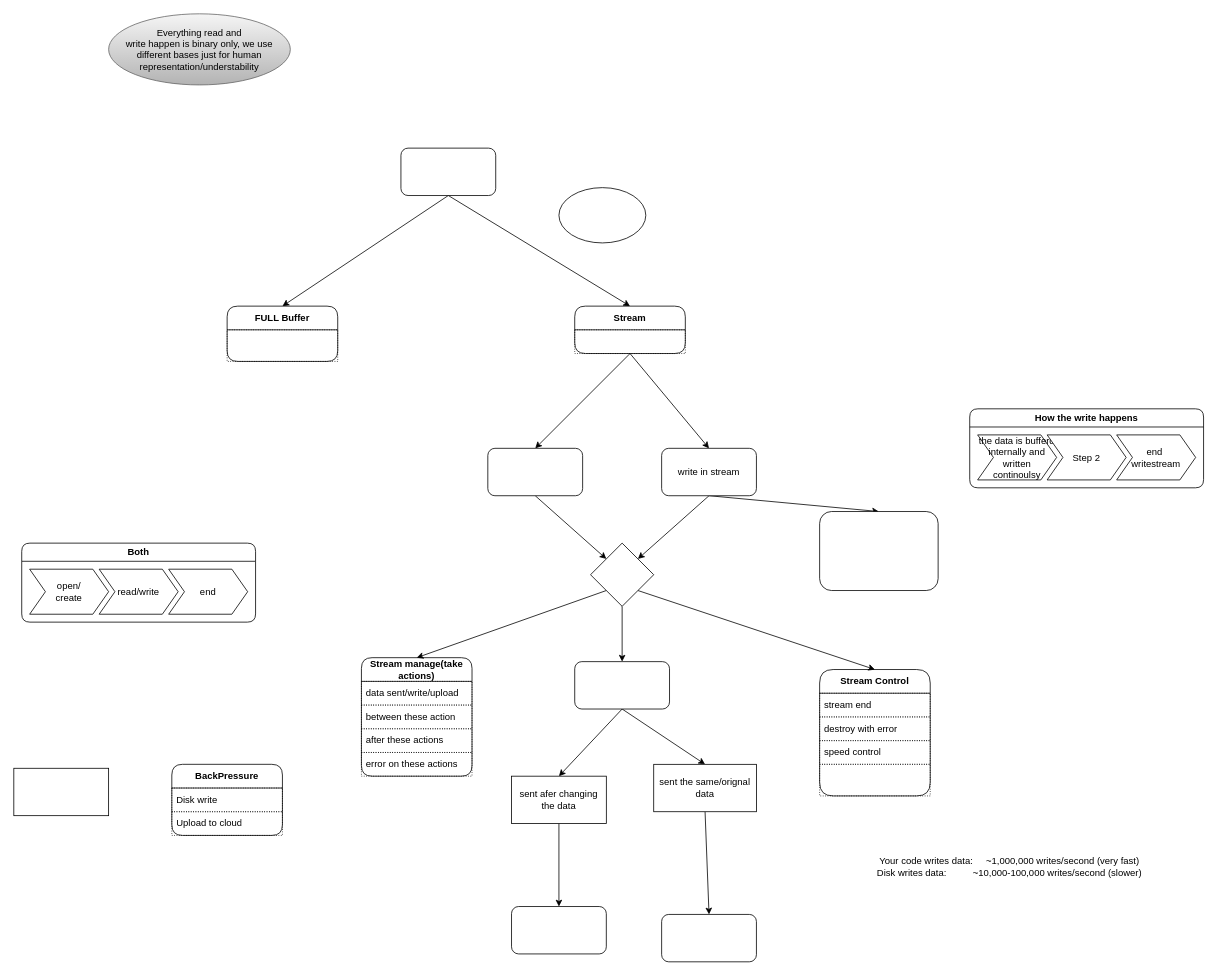
This 1217x976 diagram has some shape labels left out. Here are the shapes that lost their labels. From the top down, the centre of each, then its label:
At (x=448, y=171): "Buffer".
At (x=602, y=215): "in what mode to open file".
At (x=282, y=345): "1. Full loaded data in RAM".
At (x=629, y=341): "1. Chunk of buffers".
At (x=535, y=472): "read in stream".
At (x=878, y=551): "Internal working how do they wrtie -> buffer data -> simultaniouly write".
At (x=622, y=685): "Duplex stream".
At (x=61, y=791): "encoding and decodeing".
At (x=874, y=780): "read and write buffer control".
At (x=558, y=930): "Transform".
At (x=708, y=938): "passthrough".
